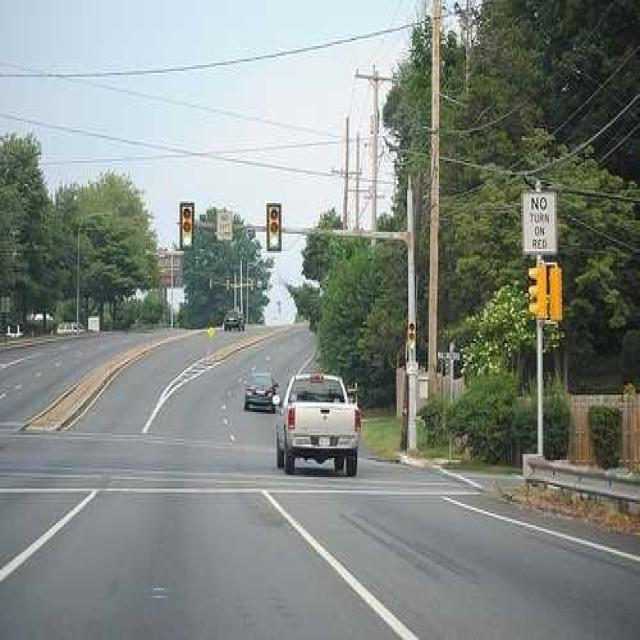Traffic Light -Green-: (262, 199, 286, 255), (174, 197, 198, 251)
